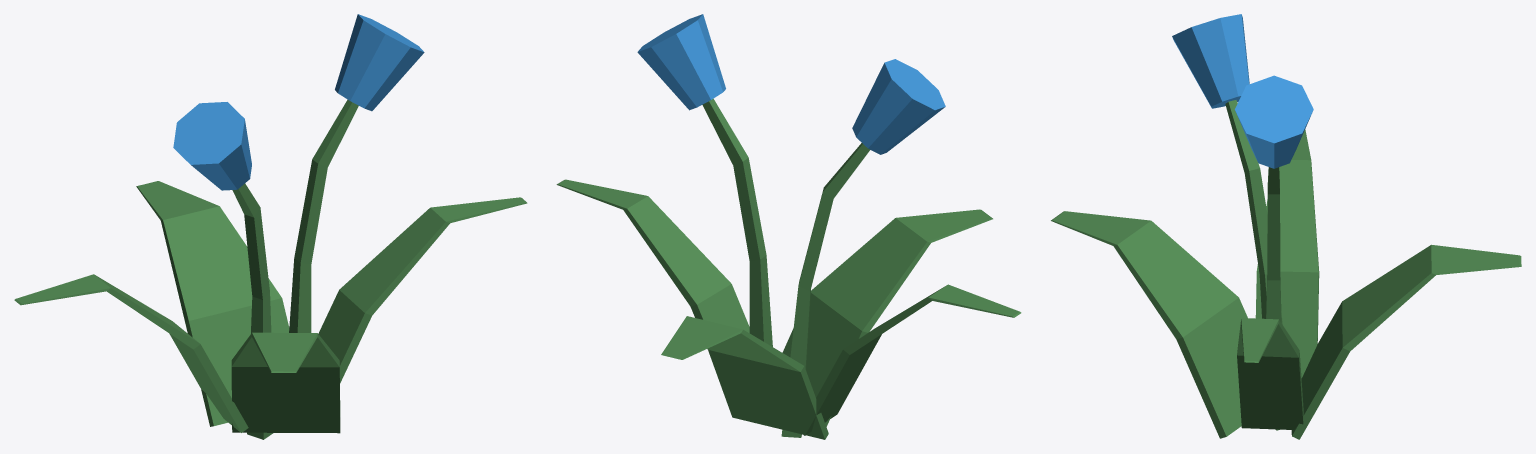
The model's file is flower-03.glb.
3 renders of one model, left to right at view 1: azimuth 30°, elevation 25°; view 2: azimuth 150°, elevation 25°; view 3: azimuth 270°, elevation 25°, orthographic. The views are drawn at different scales.
Parts seen in each view (by area): view 1: Flower2; view 2: Flower2; view 3: Flower2.
Boxes of the visible parts, x1=… form: Flower2: x1=14, y1=14, x2=527, y2=439; Flower2: x1=556, y1=14, x2=1021, y2=439; Flower2: x1=1051, y1=14, x2=1521, y2=439.
Bounding box in the file's own units: 1.21 × 0.933 × 0.9977.
